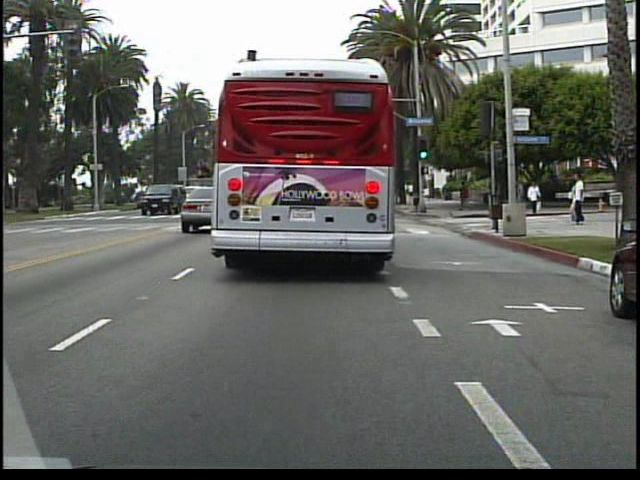person: (570, 168, 591, 225), (526, 178, 545, 216), (456, 175, 473, 215), (511, 177, 528, 211)
